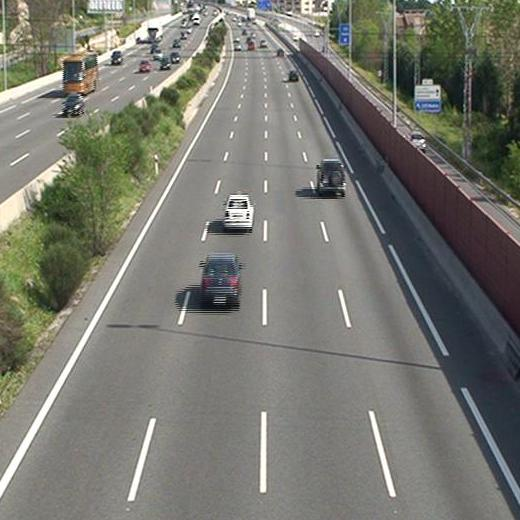car: (200, 253, 239, 305), (224, 194, 254, 229), (318, 159, 345, 195), (288, 70, 298, 81), (260, 38, 268, 47), (234, 42, 242, 50), (276, 48, 284, 56)
van: (246, 41, 255, 50)
